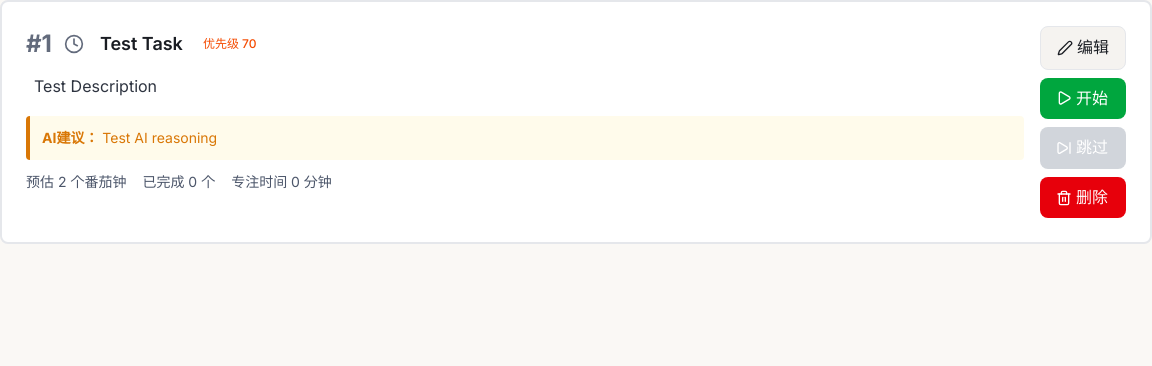
PomodoroTaskCard Focus Management › should not select text in textarea elements when focused
Click the text "Test Description".
click(96, 86)  # box [34,76,157,96]
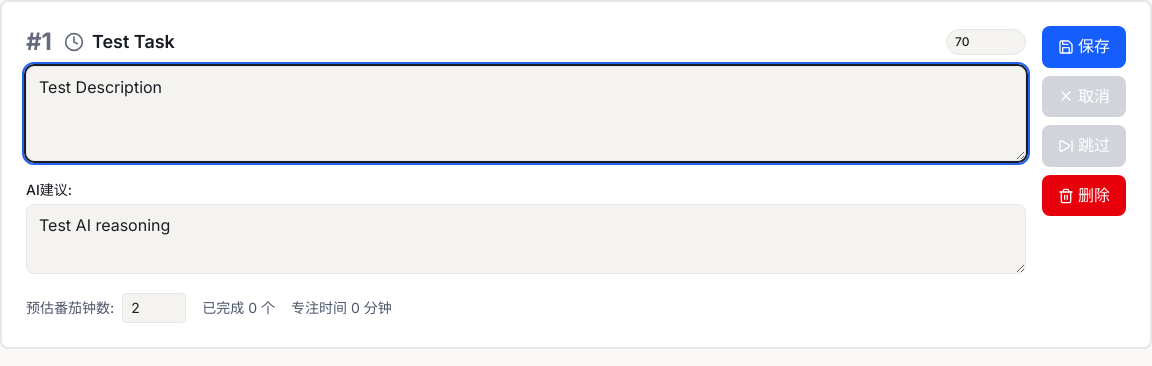
Expected: the 1st text box showing "Test Description" is shown, [26,66,1026,161]
